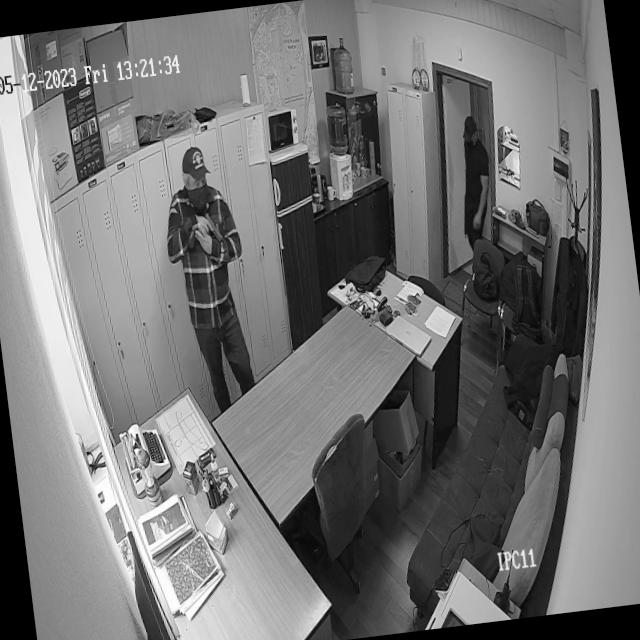gun: (202, 208, 224, 244)
person: (449, 112, 508, 271)
person with a gun: (160, 139, 262, 393)
